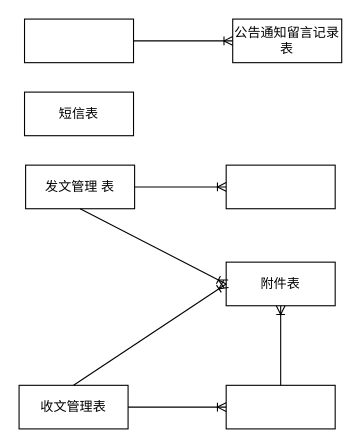
Image size: 361x448. Some labels were removed from this diagram. Here are the shapes that lost their labels. From the top down, the centre of each, then its label:
point 78,40: 公告通知表
point 280,186: 发文件工作人员关联表
point 280,406: 收文工作人员关联表
